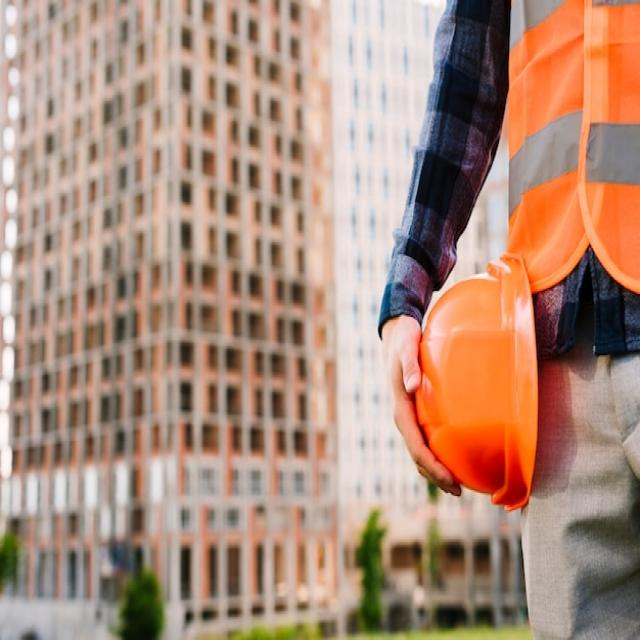Reflective-Jacket: (492, 0, 635, 302)
Safety-Helmet: (390, 242, 543, 538)
